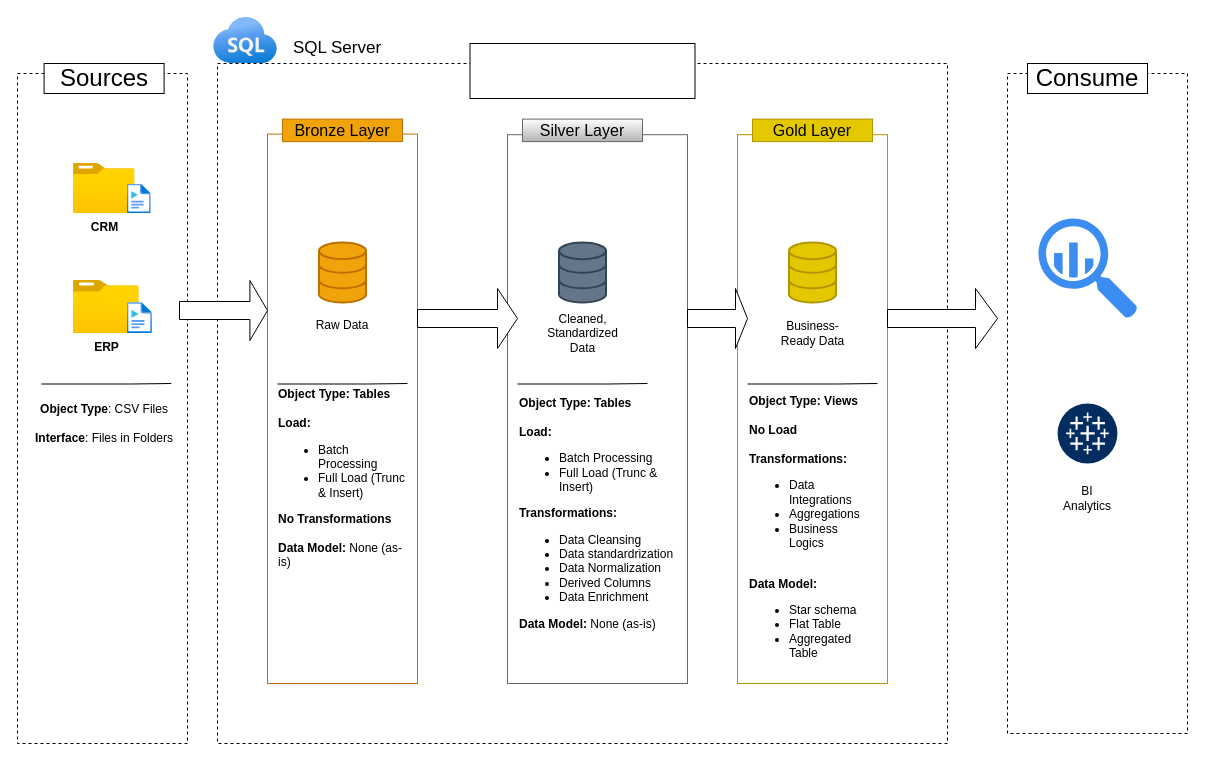
Some shapes in this 1205 by 761 pixel diagram are drawn without their labels. Here are the shapes that lost their labels. From the top down, the centre of each, then its label:
At point 582,70: "Data Warehouse".
At point 1087,268: "SQL Queries".
